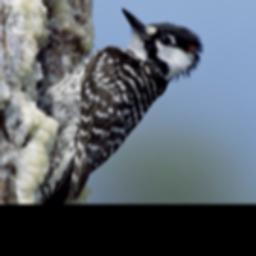Woodpecker: (0, 1, 206, 200)
